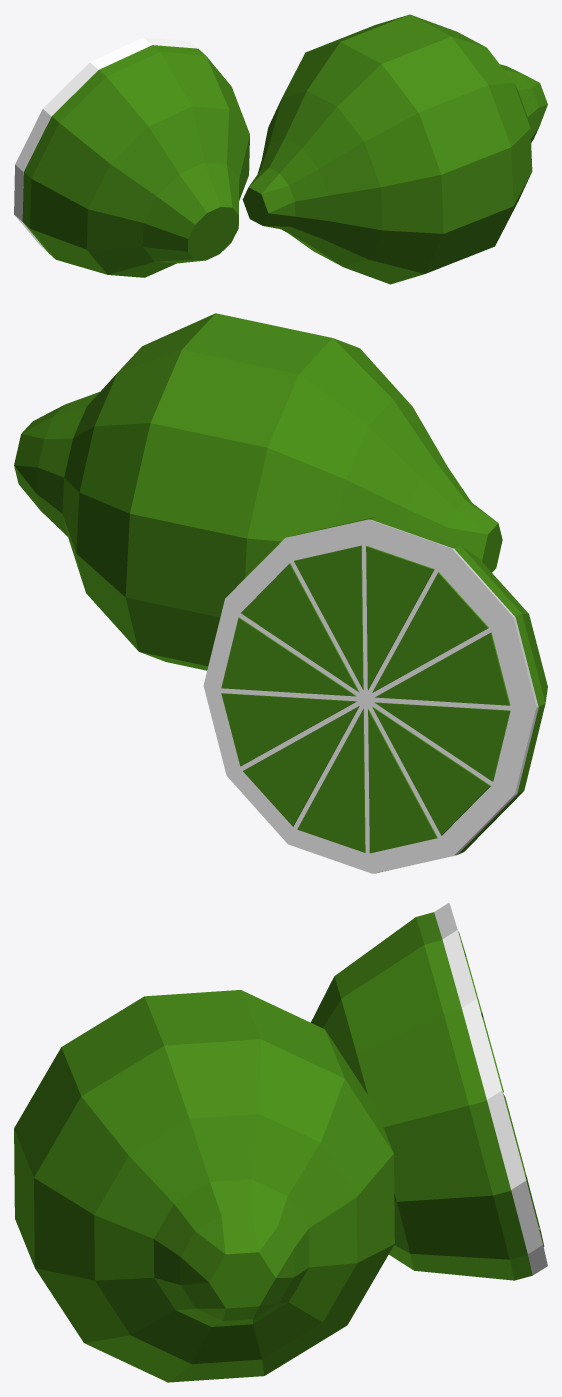
File: Lime.obj
3 views of the same model, one above another, from view 1: azimuth 30°, elevation 25°; view 2: azimuth 150°, elevation 25°; view 3: azimuth 270°, elevation 25° (orthographic). The views are drawn at different scales.
Bounding box in the file's own units: 0.4005 × 0.2198 × 0.2833.
